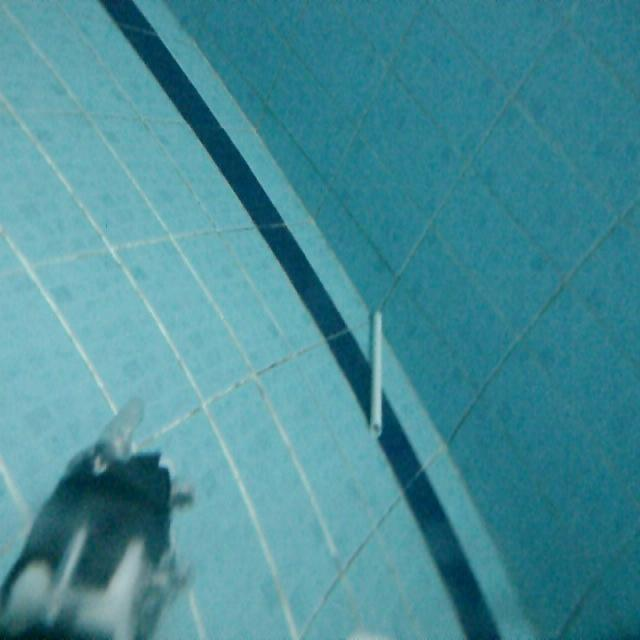Cube: (366, 307, 388, 445)
